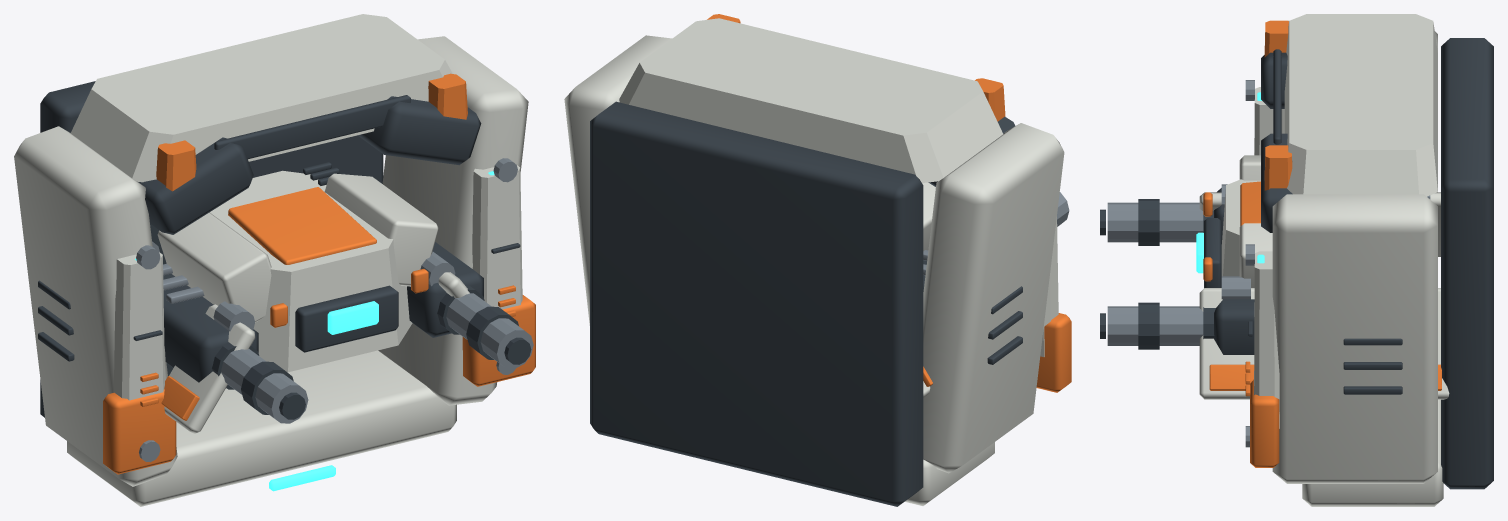
The model's file is VXDR_ATTACK_v003_DOCKED.fbx.
The picture shows the model from 3 angles, left to right: view 1: azimuth 30°, elevation 25°; view 2: azimuth 150°, elevation 25°; view 3: azimuth 270°, elevation 25°; orthographic projection. The views are drawn at different scales.
Parts seen in each view (by area): view 1: Docked_Faceted top bridge, Docked_Cradle armored rail, Docked_Bottom charging bridge, Docked_Cradle armored rail.001, Docked_Faceted sensor hull, Docked_Sloped cheek armor, Docked_Top identification, Docked_Side armor panel, Docked_Side armor panel.001, Docked_Body mounting plate, Docked_Angled cradle brow, Docked_Sloped cheek armor.001 (+21 smaller); view 2: Docked_Body mounting plate, Docked_Cradle armored rail, Docked_Faceted top bridge, Docked_Cradle armored rail.001, Docked_Rail orange latch, Docked_Bottom charging bridge, Docked_Side armor panel, Docked_Top orange lock, Docked_Sloped cheek armor; view 3: Docked_Cradle armored rail.001, Docked_Faceted top bridge, Docked_Body mounting plate, Docked_Bottom charging bridge, Docked_Side armor panel.001, Docked_Cannon barrel, Docked_Cannon barrel.001, Docked_Rail orange latch.001, Docked_Gun carrier.001, Docked_Foldable stabilizer.002, Docked_Faceted sensor hull, Docked_Sloped cheek armor.001 (+16 smaller).
Part boxes in pixels (<box>): Docked_Faceted top bridge: <box>70,14,452,182</box>; Docked_Cradle armored rail: <box>14,126,177,486</box>; Docked_Bottom charging bridge: <box>67,350,456,506</box>; Docked_Cradle armored rail.001: <box>378,36,528,405</box>; Docked_Faceted sensor hull: <box>210,170,412,372</box>; Docked_Sloped cheek armor: <box>157,212,271,322</box>; Docked_Top identification: <box>228,187,376,264</box>; Docked_Side armor panel: <box>113,252,164,400</box>; Docked_Side armor panel.001: <box>472,165,522,309</box>; Docked_Body mounting plate: <box>40,81,383,417</box>; Docked_Angled cradle brow: <box>138,137,253,234</box>; Docked_Sloped cheek armor.001: <box>324,173,438,286</box>; Docked_Body mounting plate: <box>590,101,923,506</box>; Docked_Cradle armored rail: <box>923,123,1064,473</box>; Docked_Faceted top bridge: <box>619,18,1003,182</box>; Docked_Cradle armored rail.001: <box>564,35,671,325</box>; Docked_Rail orange latch: <box>1036,313,1071,392</box>; Docked_Bottom charging bridge: <box>905,442,994,505</box>; Docked_Side armor panel: <box>1040,217,1058,356</box>; Docked_Top orange lock: <box>975,78,1005,121</box>; Docked_Sloped cheek armor: <box>922,182,935,250</box>; Docked_Cradle armored rail.001: <box>1272,194,1437,483</box>; Docked_Faceted top bridge: <box>1284,14,1437,196</box>; Docked_Body mounting plate: <box>1441,38,1493,489</box>; Docked_Bottom charging bridge: <box>1302,399,1443,506</box>; Docked_Side armor panel.001: <box>1254,251,1279,428</box>; Docked_Cannon barrel: <box>1107,202,1203,242</box>; Docked_Cannon barrel.001: <box>1107,306,1203,345</box>; Docked_Rail orange latch.001: <box>1250,379,1279,467</box>; Docked_Gun carrier.001: <box>1214,299,1254,354</box>; Docked_Foldable stabilizer.002: <box>1199,288,1254,399</box>; Docked_Faceted sensor hull: <box>1221,179,1260,276</box>; Docked_Sloped cheek armor.001: <box>1239,223,1272,287</box>.
Size of the model in its own units: 40.81 by 33.85 by 33.4.
